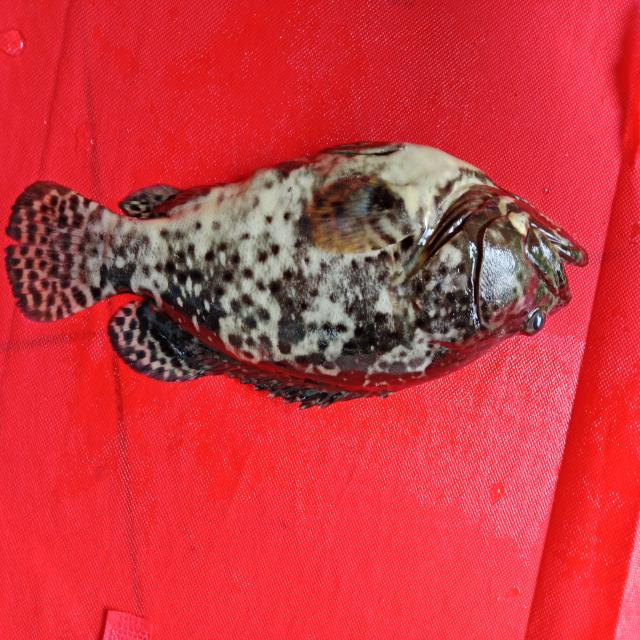ikan: (2, 126, 598, 416)
